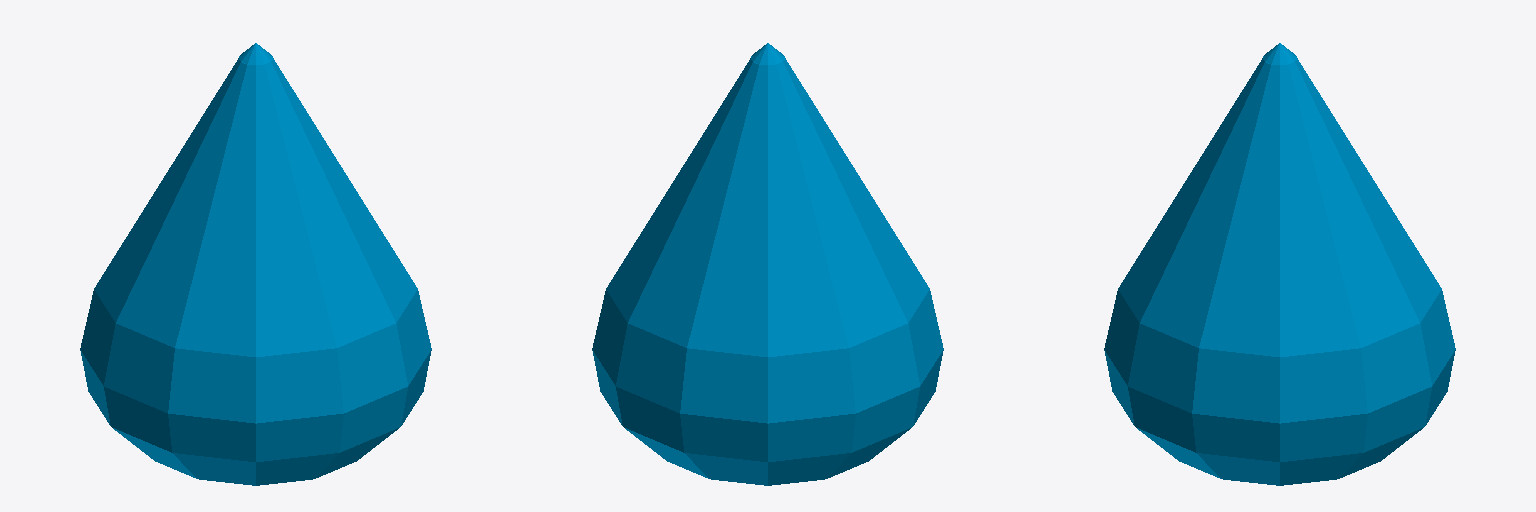
The model's file is naki_namida.obj.
3 views of the same model, side by side, from view 1: azimuth 30°, elevation 25°; view 2: azimuth 150°, elevation 25°; view 3: azimuth 270°, elevation 25° (orthographic).
Parts seen in each view (by area): view 1: 立方体.007; view 2: 立方体.007; view 3: 立方体.007.
Part boxes in pixels (left/top/right/bottom): 立方体.007: left=80, top=43, right=431, bottom=485; 立方体.007: left=592, top=43, right=943, bottom=485; 立方体.007: left=1104, top=43, right=1455, bottom=485.
Size of the model in its own units: 0.5383 by 0.721 by 0.5383.